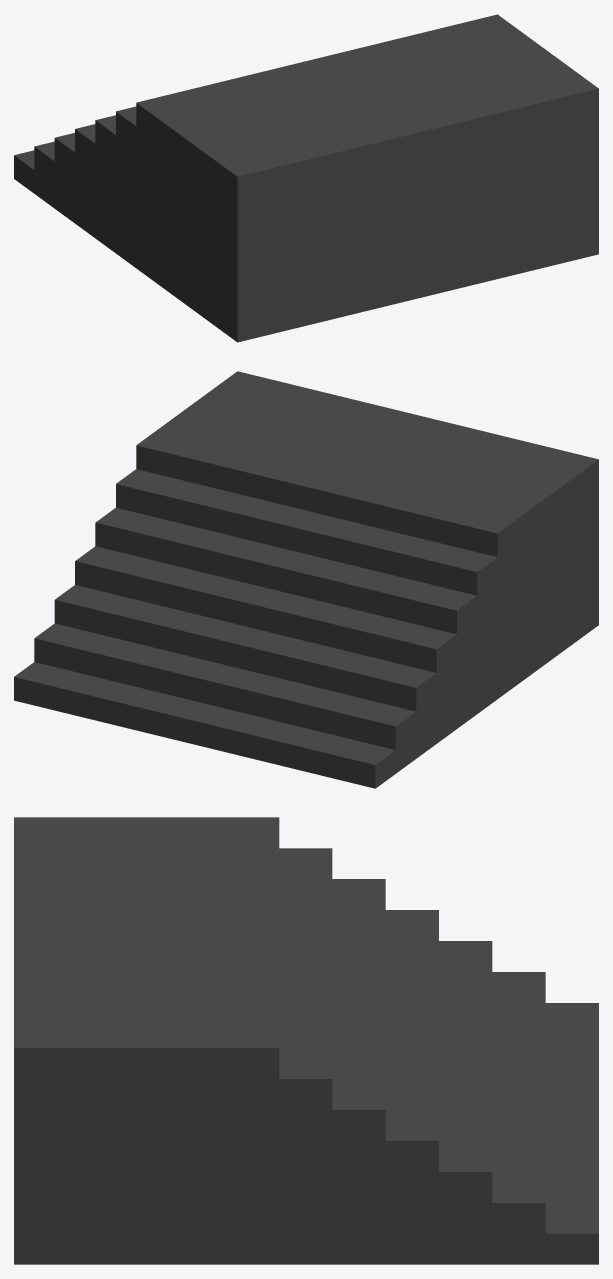
Rendered from Stairs.fbx.
3 views of the same model, one above another, from view 1: azimuth 30°, elevation 25°; view 2: azimuth 150°, elevation 25°; view 3: azimuth 270°, elevation 25° (orthographic). The views are drawn at different scales.
Parts seen in each view (by area): view 1: Cube; view 2: Cube; view 3: Cube.
Part boxes in pixels (left/top/right/bottom): Cube: left=14, top=14, right=598, bottom=342; Cube: left=14, top=371, right=598, bottom=788; Cube: left=14, top=817, right=598, bottom=1264.
Bounding box in the file's own units: 456 × 200 × 489.
